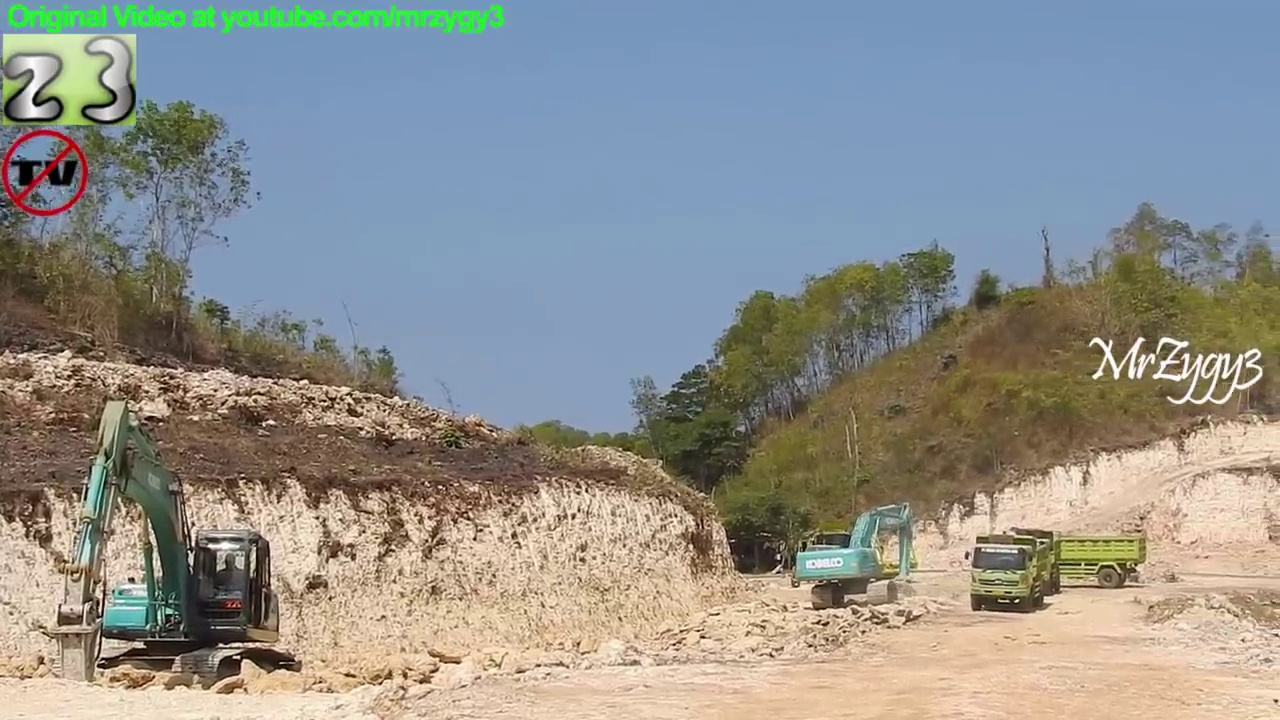excavator: (793, 496, 922, 610)
excavator breaker: (48, 395, 309, 693)
truck: (1000, 527, 1151, 592), (961, 531, 1053, 613), (984, 527, 1061, 603)
